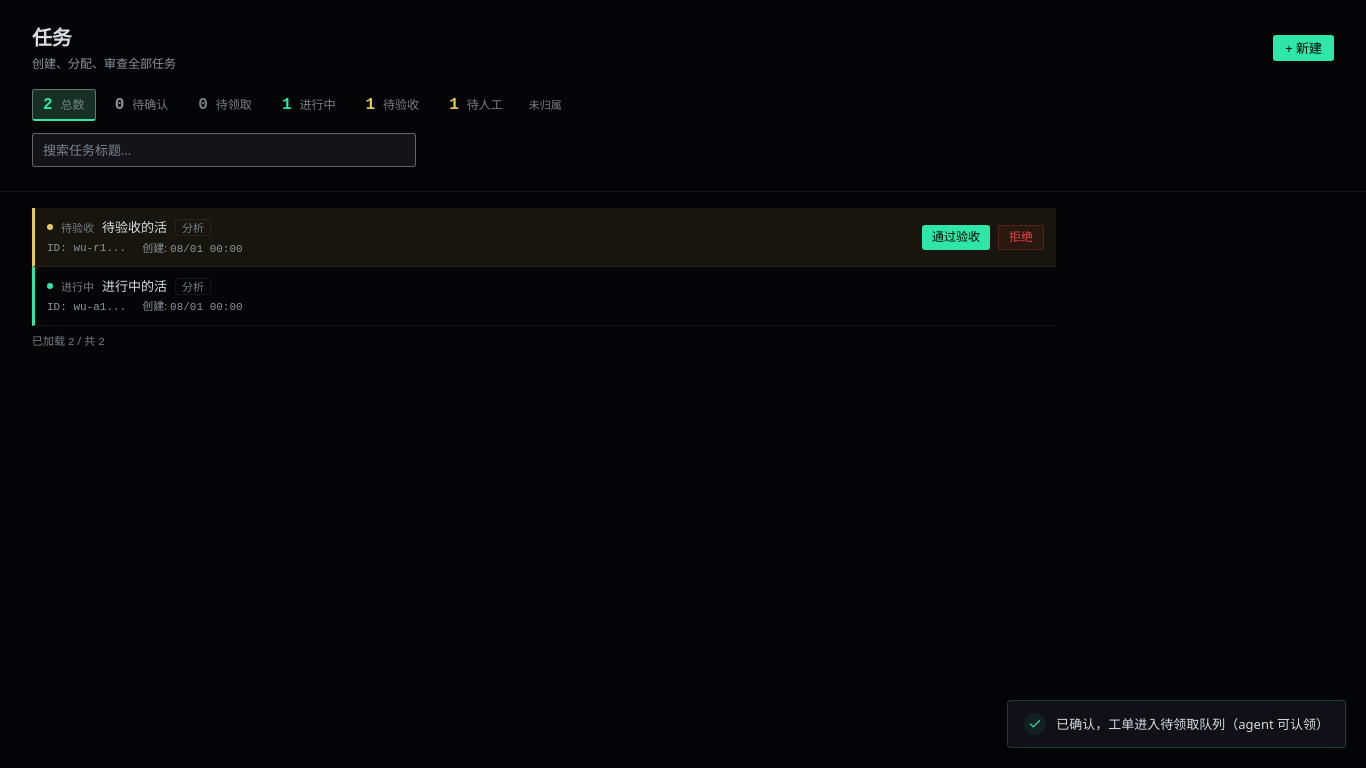
Test: WorkUnitListPage — 统计 chip 筛选（Step 2） › 选状态 chip 清除待人工过滤（互斥，与原 pill 行为一致）
Click the button "1 待人工": [476, 105] box left=438, top=89, right=514, bottom=121
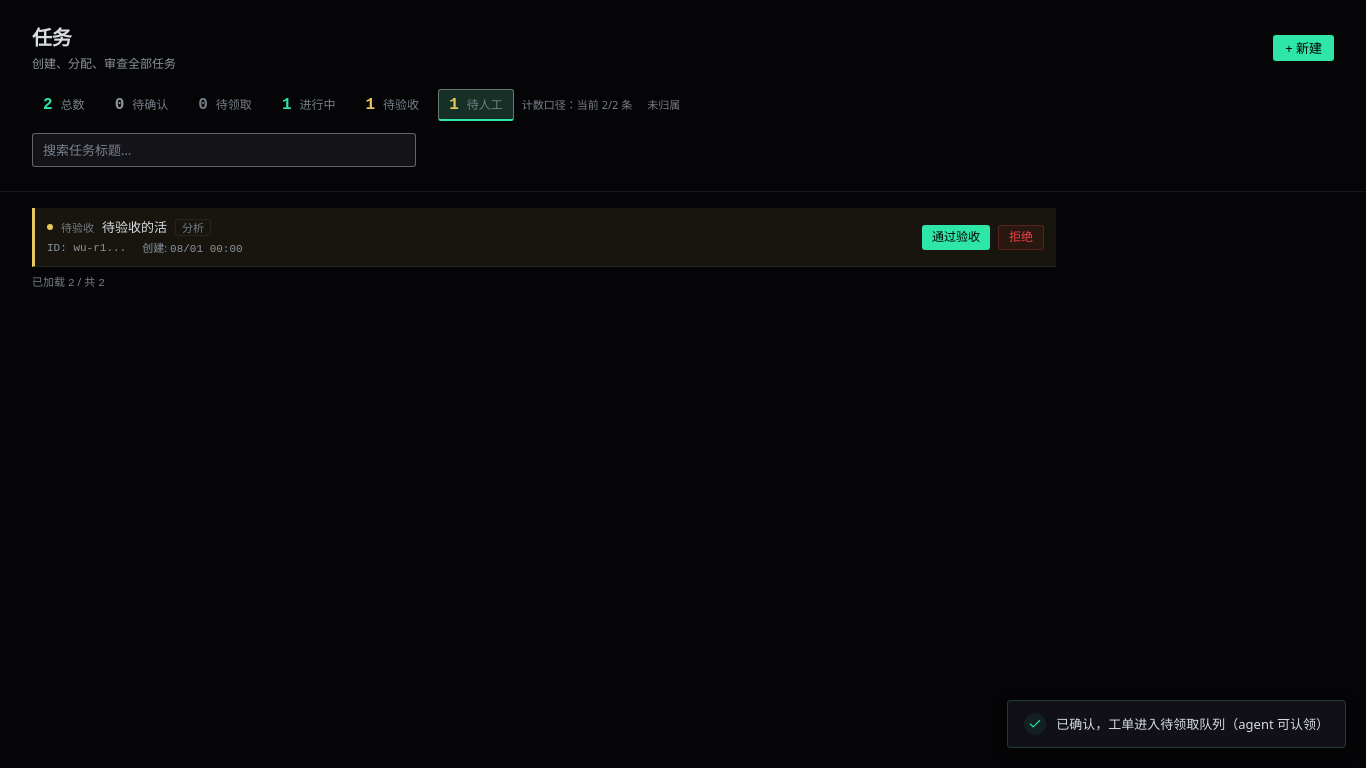
Expected: the text "进行中的活" is gone
Click the button "1 进行中": [309, 105] box left=271, top=89, right=346, bottom=121
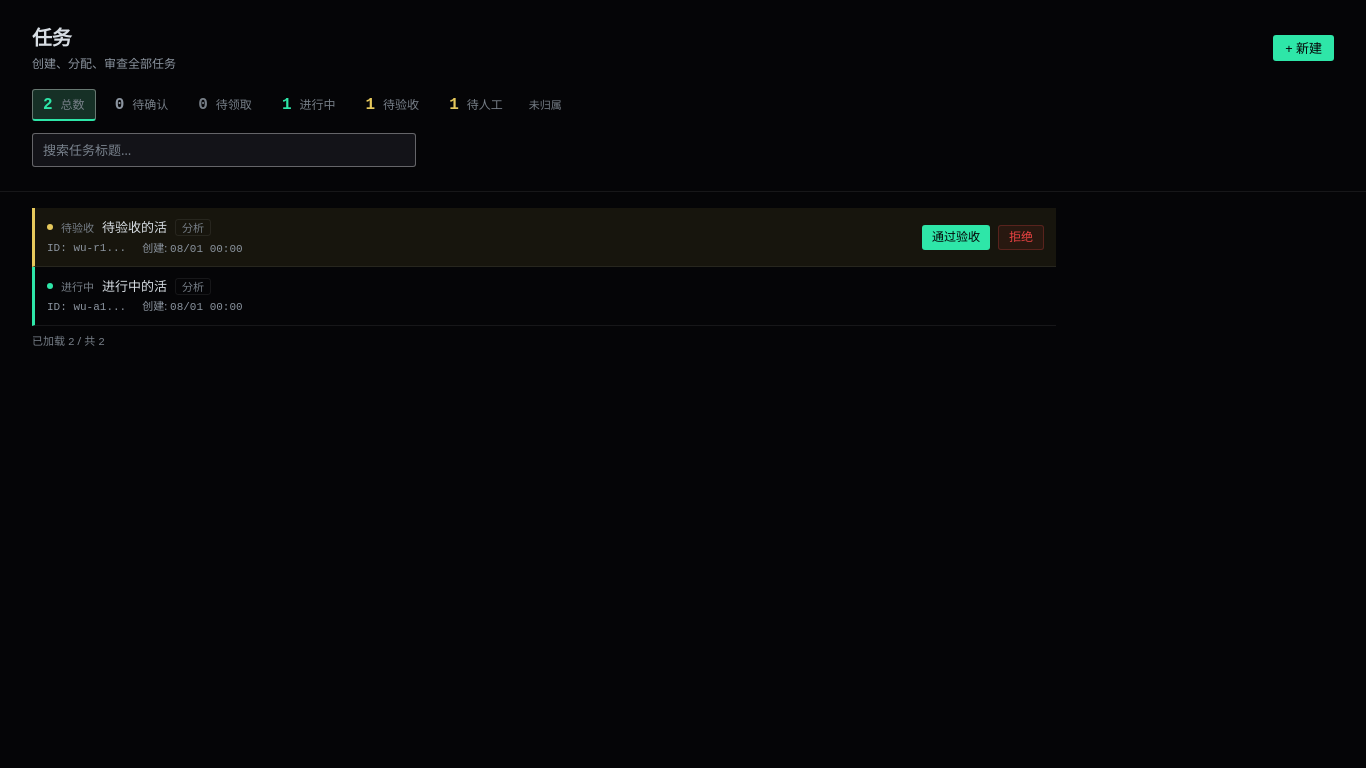
Expected: the text "进行中的活" is shown, left=102, top=277, right=167, bottom=295
